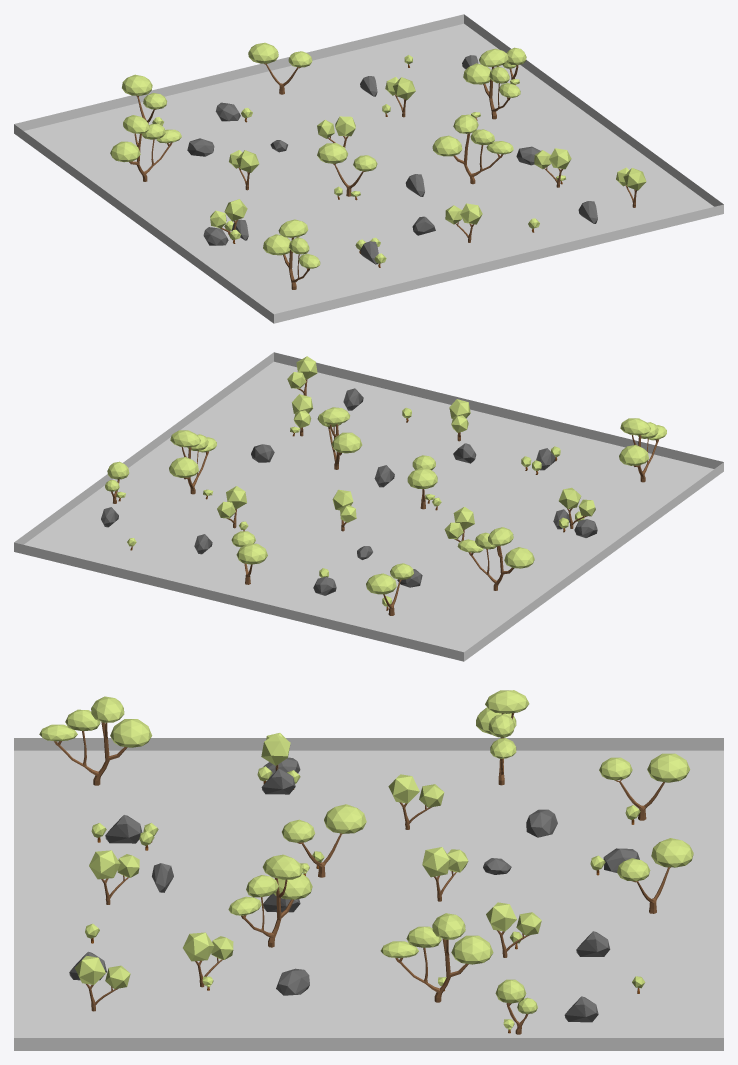
Rendered from map.glb.
The picture shows the model from 3 angles, top to bottom: view 1: azimuth 30°, elevation 25°; view 2: azimuth 150°, elevation 25°; view 3: azimuth 270°, elevation 25°; orthographic projection. The views are drawn at different scales.
Visible parts, largest first — view 1: Plane, Cube.001, Cube, Cube.003, Cube.002, Tree4, Tree4.002, Tree4.001, Tree4.003, Tree2, Tree2.001, Tree2.002 (+7 smaller); view 2: Plane, Cube, Cube.001, Cube.003, Cube.002, Tree4.002, Tree4.003, Tree4.001, Tree4, Tree2.002, Tree2, Tree2.001 (+8 smaller); view 3: Plane, Cube.002, Cube.003, Tree4.003, Tree4.001, Tree4, Tree4.002, Tree2.002, Tree2.001, Tree2, Tree3.004, Tree3.005 (+12 smaller).
Part boxes in pixels (<box>): Plane: <box>24,23,713,314</box>; Cube.001: <box>274,204,723,323</box>; Cube: <box>14,14,463,130</box>; Cube.003: <box>14,124,273,323</box>; Cube.002: <box>464,14,723,206</box>; Tree4: <box>432,114,513,184</box>; Tree4.002: <box>110,115,181,181</box>; Tree4.001: <box>263,219,320,289</box>; Tree4.003: <box>463,48,520,119</box>; Tree2: <box>248,42,312,94</box>; Tree2.001: <box>317,143,377,196</box>; Tree2.002: <box>122,74,167,123</box>; Plane: <box>24,361,713,652</box>; Cube: <box>14,542,463,661</box>; Cube.001: <box>274,352,723,468</box>; Cube.003: <box>464,462,723,661</box>; Cube.002: <box>14,352,273,544</box>; Tree4.002: <box>457,527,534,590</box>; Tree4.003: <box>169,430,216,494</box>; Tree4.001: <box>619,418,666,482</box>; Tree4: <box>317,407,362,469</box>; Tree2.002: <box>366,563,413,615</box>; Tree2: <box>231,531,267,584</box>; Tree2.001: <box>407,455,437,509</box>; Plane: <box>14,750,723,1037</box>; Cube.002: <box>14,1038,723,1050</box>; Cube.003: <box>14,738,723,750</box>; Tree4.003: <box>380,913,493,1002</box>; Tree4.001: <box>39,696,152,785</box>; Tree4: <box>228,854,312,947</box>; Tree4.002: <box>476,690,529,785</box>; Tree2.002: <box>599,753,690,820</box>; Tree2.001: <box>282,804,366,877</box>; Tree2: <box>617,838,693,913</box>; Tree3.004: <box>89,850,139,904</box>; Tree3.005: <box>486,902,541,957</box>.
Size of the model in its own units: 50 by 6.87 by 50.
